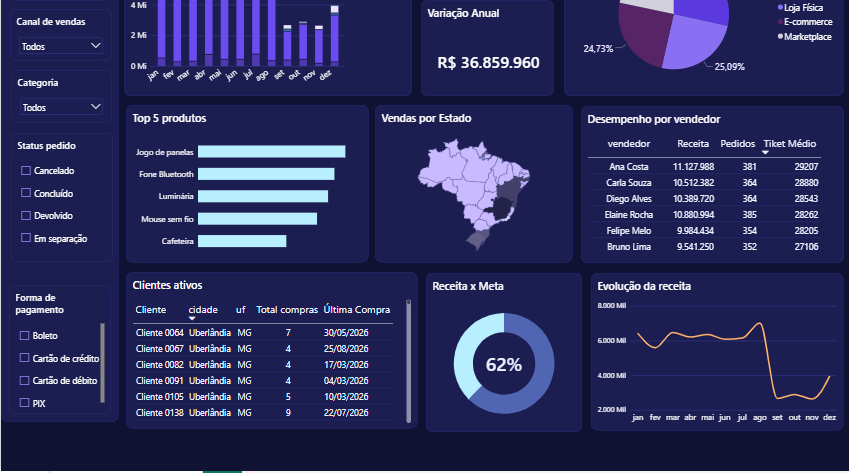

The dashboard page shown, as its layout file describes it:
{"tool":"powerbi","page":{"name":"Visão geral","canvas":[1700,1400],"ordinal":0},"visuals":[{"type":"cardVisual","title":"Receita","fields":{"Data":["Itens_pedidos_tratados.Receita"]},"box":[250,103,276,155],"z":0},{"type":"image","box":[6,5.3,66,54],"z":1000},{"type":"textbox","box":[0,0,235,1301.7],"z":2000},{"type":"textbox","title":"Visão Geral","box":[261.2,10,340,61.2],"z":3000},{"type":"textbox","box":[250,38,462,46],"z":4000},{"type":"cardVisual","title":"Itens vendidos","fields":{"Data":["Itens_pedidos_tratados.Itens Vendidos"]},"box":[540,105.5,273.3,153.3],"z":5000},{"type":"cardVisual","title":"Pedidos","fields":{"Data":["Itens_pedidos_tratados.Numeros de pedidos"]},"box":[833.6,105.5,278,155],"z":6000},{"type":"cardVisual","title":"Clientes ativos","fields":{"Data":["Itens_pedidos_tratados.Clientes Ativos"]},"box":[1126.4,106.4,276.7,153.3],"z":7000},{"type":"cardVisual","title":"Ticket Médio","fields":{"Data":["Itens_pedidos_tratados.Tiket Médio"]},"box":[1417,105,268,153],"z":8000},{"type":"columnChart","title":"Evolução de Status por Mês","fields":{"Series":["Pedidos_tratados.status"],"Category":["Calendario.Mês Abreviado"],"Y":["Itens_pedidos_tratados.Receita"]},"box":[246,278,576,372],"z":9000},{"type":"cardVisual","title":"Variação mensal","fields":{"Data":["Itens_pedidos_tratados.Variação mensal"]},"box":[840,278,265.6,165.6],"z":10000},{"type":"cardVisual","title":"Variação Anual","fields":{"Data":["Itens_pedidos_tratados.Variação anual"]},"box":[840,458,266,192],"z":11000},{"type":"barChart","title":"Top 5 produtos","fields":{"Category":["Produtos_tratados.produto"],"Y":["Itens_pedidos_tratados.Lucro"]},"box":[250,668.3,485,315],"z":12000},{"type":"shapeMap","title":"Vendas por Estado","fields":{"Value":["Itens_pedidos_tratados.Receita"],"Category":["Clientes_tratados.Estado Completo"]},"box":[748.3,668.3,395,315],"z":13000},{"type":"tableEx","title":"Desempenho por vendedor","fields":{"Values":["Vendedores_tratados.vendedor","Itens_pedidos_tratados.Receita","Itens_pedidos_tratados.Numeros de pedidos","Itens_pedidos_tratados.Tiket Médio"]},"box":[1159,669,526,314],"z":14000},{"type":"tableEx","title":"Clientes ativos","fields":{"Values":["Clientes_tratados.nome_cliente","Clientes_tratados.cidade","Clientes_tratados.uf","Itens_pedidos_tratados.Numeros de pedidos","Itens_pedidos_tratados.Última Compra"]},"box":[250,1001.7,583.3,313.3],"z":15000},{"type":"lineChart","title":"Evolução da receita","fields":{"Y":["Itens_pedidos_tratados.Receita"],"Category":["Calendario.Mês Abreviado"]},"box":[1180,1003.3,505,315],"z":16000},{"type":"slicer","title":"Estados","fields":{"Values":["Clientes_tratados.uf"]},"box":[16,353,206,105],"z":17000},{"type":"slicer","title":"Canal de vendas","fields":{"Values":["Pedidos_tratados.canal"]},"box":[18,475,204,104],"z":18000},{"type":"slicer","title":"Status pedido","fields":{"Values":["Pedidos_tratados.status"]},"box":[20,724,204,258],"z":19000},{"type":"slicer","title":"Categoria ","fields":{"Values":["Produtos_tratados.categoria"]},"box":[20,598,202,105],"z":20000},{"type":"slicer","title":"Periodo","fields":{"Values":["Calendario.Mês Abreviado"]},"box":[15,113.3,206.7,218.3],"z":21000},{"type":"textbox","box":[84.3,32.9,165.7,52.1],"z":22000},{"type":"slicer","fields":{"Values":["Calendario.Date"]},"box":[31.7,211.7,170,116.7],"z":23000},{"type":"slicer","title":"Forma de pagamento","fields":{"Values":["Pedidos_tratados.forma_pagamento"]},"box":[16.7,1028.3,204,258],"z":24000},{"type":"image","box":[0,0,93.6,71.8],"z":25000},{"type":"pieChart","fields":{"Category":["Pedidos_tratados.canal"],"Y":["Itens_pedidos_tratados.Receita"]},"box":[1126,278,559,372],"z":26000},{"type":"donutChart","title":"Receita x Meta","fields":{"Y":["Itens_pedidos_tratados.% Meta Atingida","Itens_pedidos_tratados.% Falta para Meta"]},"box":[850,1003.3,312.2,317.8],"z":27000}]}

Visuals, with their boxes on the page's 1700x1400 design canvas (x1, y1, x2, y2). These are canvas units, not pixel positions in the 849x473 screenshot, which may show the page scaled, cropped or inside an application window:
"Receita" cardVisual: left=250, top=103, right=526, bottom=258
image: left=6, top=5, right=72, bottom=59
textbox: left=0, top=0, right=235, bottom=1302
"Visão Geral" textbox: left=261, top=10, right=601, bottom=71
textbox: left=250, top=38, right=712, bottom=84
"Itens vendidos" cardVisual: left=540, top=106, right=813, bottom=259
"Pedidos" cardVisual: left=834, top=106, right=1112, bottom=260
"Clientes ativos" cardVisual: left=1126, top=106, right=1403, bottom=260
"Ticket Médio" cardVisual: left=1417, top=105, right=1685, bottom=258
"Evolução de Status por Mês" columnChart: left=246, top=278, right=822, bottom=650
"Variação mensal" cardVisual: left=840, top=278, right=1106, bottom=444
"Variação Anual" cardVisual: left=840, top=458, right=1106, bottom=650
"Top 5 produtos" barChart: left=250, top=668, right=735, bottom=983
"Vendas por Estado" shapeMap: left=748, top=668, right=1143, bottom=983
"Desempenho por vendedor" tableEx: left=1159, top=669, right=1685, bottom=983
"Clientes ativos" tableEx: left=250, top=1002, right=833, bottom=1315
"Evolução da receita" lineChart: left=1180, top=1003, right=1685, bottom=1318
"Estados" slicer: left=16, top=353, right=222, bottom=458
"Canal de vendas" slicer: left=18, top=475, right=222, bottom=579
"Status pedido" slicer: left=20, top=724, right=224, bottom=982
"Categoria " slicer: left=20, top=598, right=222, bottom=703
"Periodo" slicer: left=15, top=113, right=222, bottom=332
textbox: left=84, top=33, right=250, bottom=85
slicer - Calendario.Date: left=32, top=212, right=202, bottom=328
"Forma de pagamento" slicer: left=17, top=1028, right=221, bottom=1286
image: left=0, top=0, right=94, bottom=72
pieChart - Pedidos_tratados.canal x Itens_pedidos_tratados.Receita: left=1126, top=278, right=1685, bottom=650
"Receita x Meta" donutChart: left=850, top=1003, right=1162, bottom=1321
